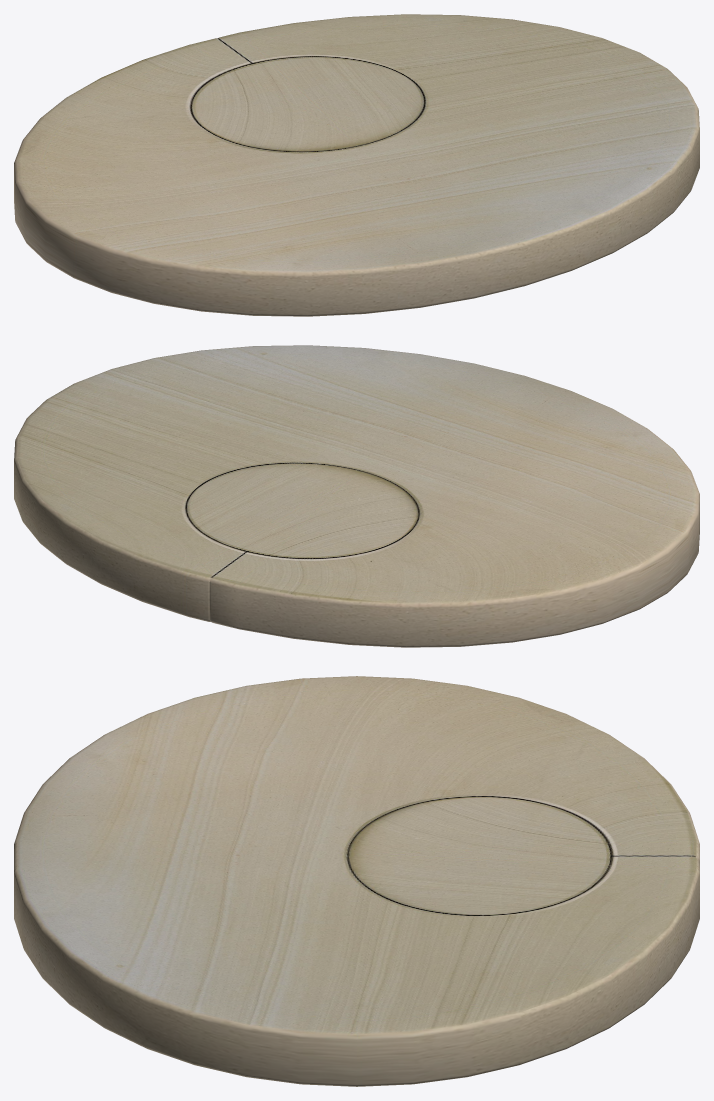
Rendered from aspen.glb.
3 renders of one model, top to bottom at view 1: azimuth 30°, elevation 25°; view 2: azimuth 150°, elevation 25°; view 3: azimuth 270°, elevation 25°, orthographic. The views are drawn at different scales.
Visible parts, largest first — view 1: Cylinder.1; view 2: Cylinder.1; view 3: Cylinder.1.
Part boxes in pixels (x1,y1,x2,y2): Cylinder.1: (14, 14, 699, 316); Cylinder.1: (14, 345, 699, 647); Cylinder.1: (14, 676, 699, 1086).
Bounding box in the file's own units: 0.0566 × 0.00395 × 0.0454.
Materials: 1 (1 with a texture image).
